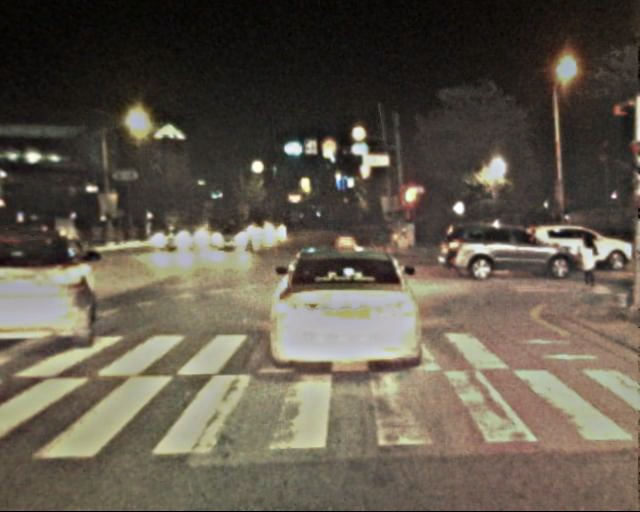person: (573, 228, 602, 298)
